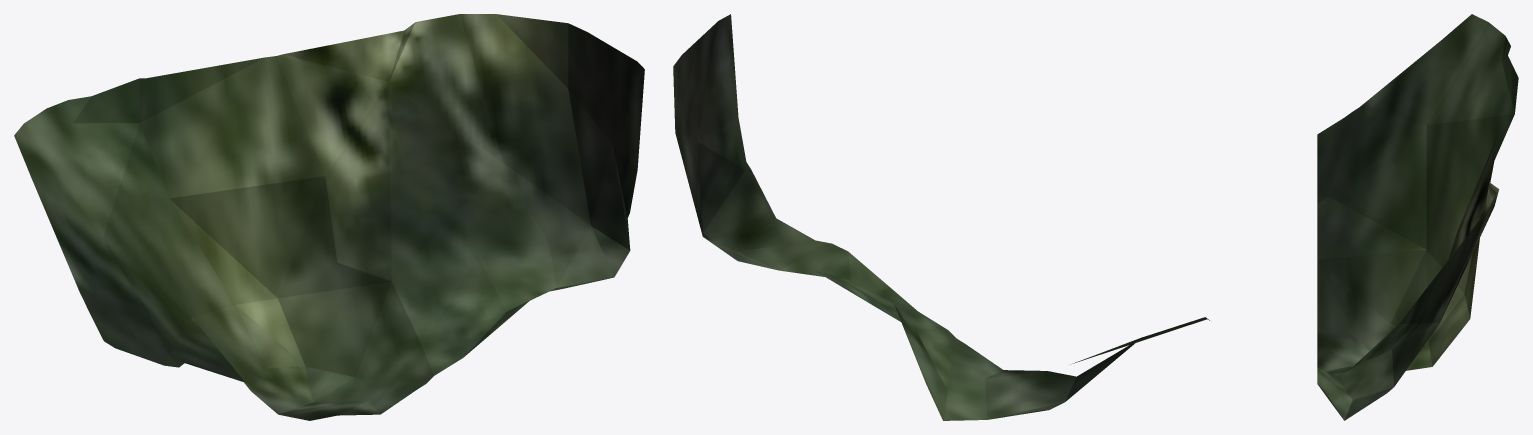
3 renders of one model, left to right at view 1: azimuth 30°, elevation 25°; view 2: azimuth 150°, elevation 25°; view 3: azimuth 270°, elevation 25°, orthographic. The views are drawn at different scales.
Size of the model in its own units: 2.28 by 1.16 by 0.844.
Materials: 1 (1 with a texture image).
